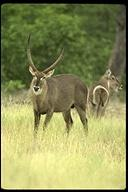antelope: (22, 31, 91, 139), (88, 67, 123, 118)
grass: (2, 140, 124, 186)
